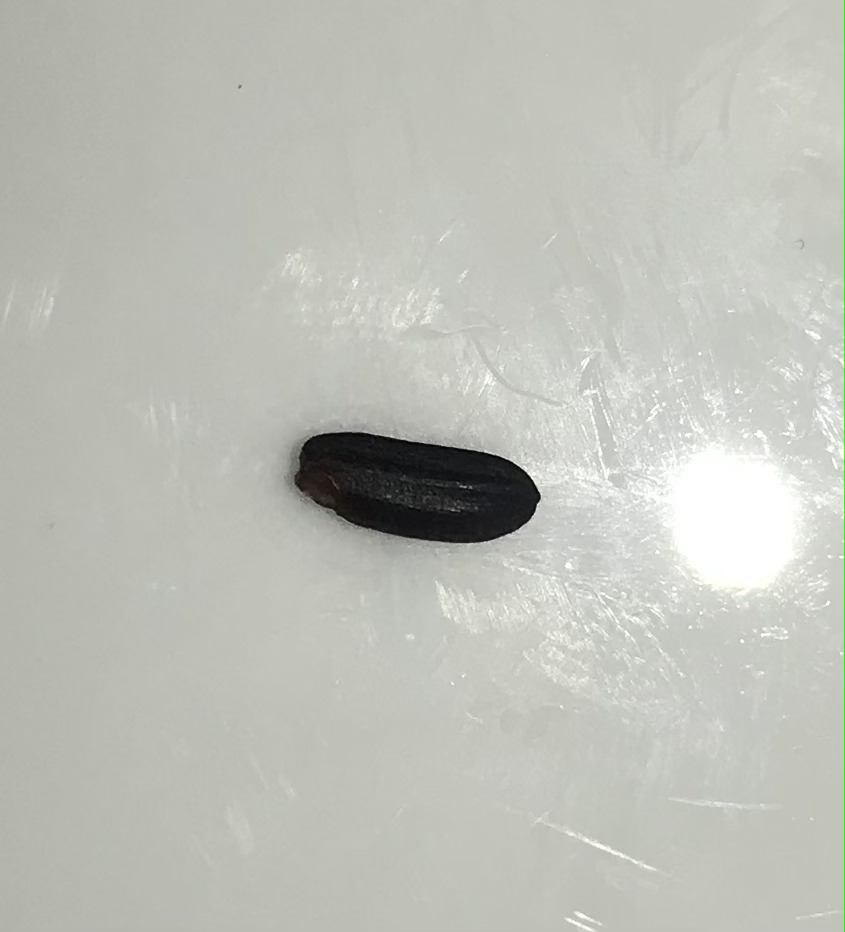Gao lut: (292, 427, 544, 547)
